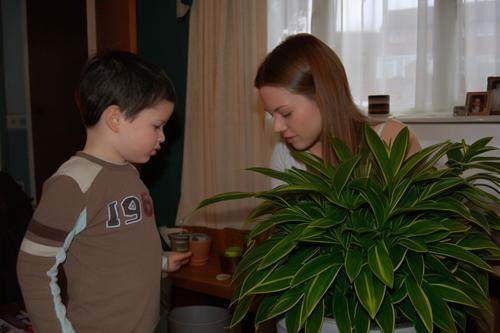person: (157, 34, 448, 333), (17, 48, 211, 333)
person/hand: (225, 197, 289, 240), (168, 248, 211, 274)
person/head: (78, 51, 178, 162), (258, 35, 350, 154)
pottedplant: (167, 121, 500, 333)
